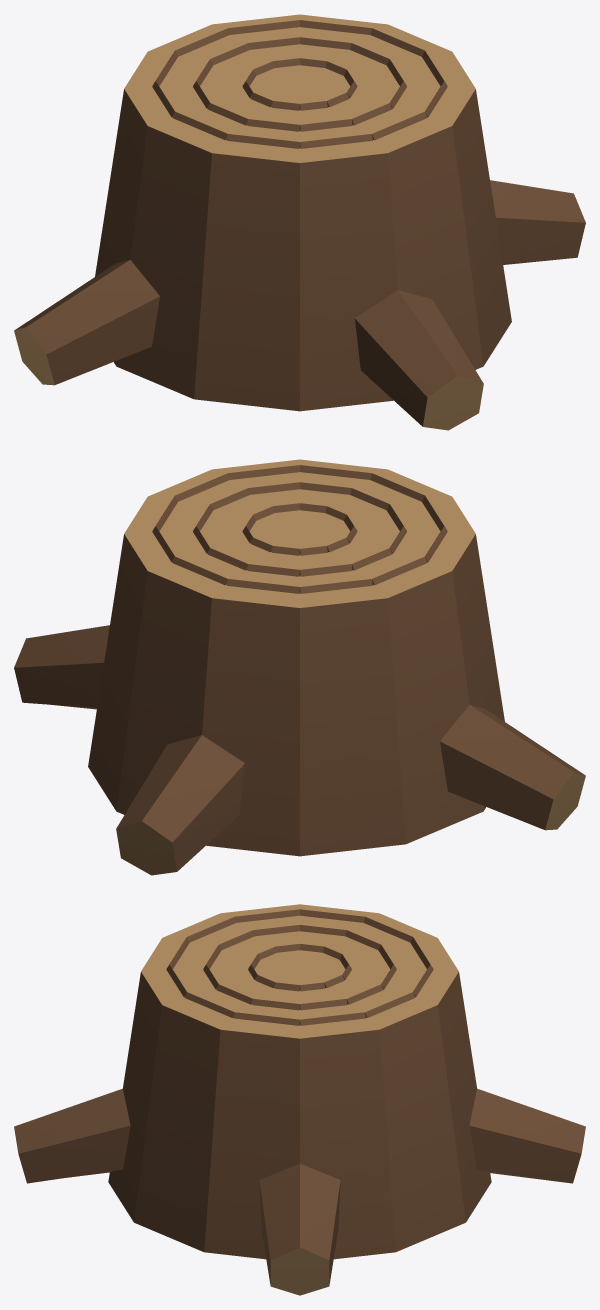
The model's file is stump.glb.
3 views of the same model, one above another, from view 1: azimuth 30°, elevation 25°; view 2: azimuth 150°, elevation 25°; view 3: azimuth 270°, elevation 25° (orthographic). The views are drawn at different scales.
Parts seen in each view (by area): view 1: stump; view 2: stump; view 3: stump.
Part boxes in pixels (left/top/right/bottom): stump: left=14, top=14, right=585, bottom=430; stump: left=14, top=459, right=585, bottom=875; stump: left=14, top=904, right=585, bottom=1295.
Size of the model in its own units: 1.4 by 0.589 by 1.4.
